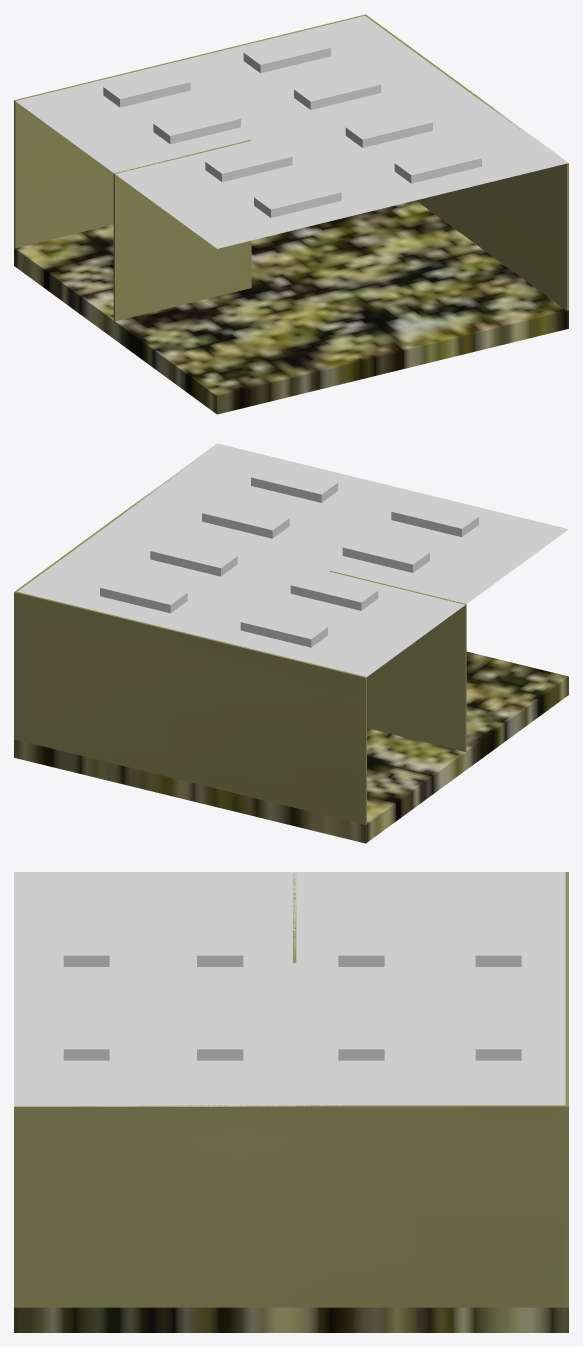
Rendered from BackroomsLevelZero - 9.fbx.
3 renders of one model, top to bottom at view 1: azimuth 30°, elevation 25°; view 2: azimuth 150°, elevation 25°; view 3: azimuth 270°, elevation 25°, orthographic. The views are drawn at different scales.
Visible parts, largest first — view 1: Floor.003, Floor.026, Wall.010, Wall.006, Wall.009, Cube.102, Cube.100, Cube.101, Cube.106, Cube.099, Cube.105, Cube.103 (+1 smaller); view 2: Floor.026, Wall.009, Floor.003, Wall.010, Cube.100, Cube.102, Cube.101, Cube.105, Cube.099, Cube.106, Cube.103, Cube.104; view 3: Wall.006, Floor.026, Floor.003, Cube.100, Cube.102, Cube.103, Cube.104, Cube.106, Cube.099, Cube.101, Cube.105, Wall.009.
Boxes of the visible parts, x1=… form: Floor.003: x1=14, y1=200, x2=568, y2=414; Floor.026: x1=15, y1=16, x2=568, y2=248; Wall.010: x1=113, y1=140, x2=251, y2=321; Wall.006: x1=365, y1=14, x2=568, y2=310; Wall.009: x1=14, y1=14, x2=366, y2=248; Cube.102: x1=243, y1=35, x2=331, y2=73; Cube.100: x1=153, y1=106, x2=240, y2=144; Cube.101: x1=205, y1=144, x2=292, y2=182; Cube.106: x1=394, y1=146, x2=481, y2=183; Cube.099: x1=103, y1=69, x2=190, y2=107; Cube.105: x1=254, y1=180, x2=341, y2=217; Cube.103: x1=294, y1=72, x2=381, y2=109; Floor.026: x1=18, y1=443, x2=568, y2=676; Wall.009: x1=14, y1=591, x2=366, y2=824; Floor.003: x1=14, y1=651, x2=568, y2=843; Wall.010: x1=329, y1=570, x2=466, y2=751; Cube.100: x1=290, y1=573, x2=378, y2=610; Cube.102: x1=100, y1=575, x2=187, y2=613; Cube.101: x1=342, y1=535, x2=429, y2=572; Cube.105: x1=391, y1=499, x2=478, y2=537; Cube.099: x1=240, y1=609, x2=327, y2=647; Cube.106: x1=251, y1=465, x2=338, y2=502; Cube.103: x1=150, y1=538, x2=237, y2=576; Cube.104: x1=202, y1=501, x2=289, y2=538; Wall.006: x1=14, y1=1105, x2=568, y2=1307; Floor.026: x1=14, y1=872, x2=565, y2=1106; Floor.003: x1=14, y1=1307, x2=568, y2=1332; Cube.100: x1=338, y1=908, x2=384, y2=966; Cube.102: x1=475, y1=1002, x2=521, y2=1060; Cube.103: x1=338, y1=1002, x2=384, y2=1060; Cube.104: x1=197, y1=1002, x2=243, y2=1060; Cube.106: x1=63, y1=1002, x2=109, y2=1060; Cube.099: x1=475, y1=908, x2=521, y2=966; Cube.101: x1=197, y1=908, x2=243, y2=966; Cube.105: x1=63, y1=908, x2=109, y2=966; Wall.009: x1=565, y1=872, x2=568, y2=1307.
Size of the model in its own units: 2000 by 946 by 2000.
